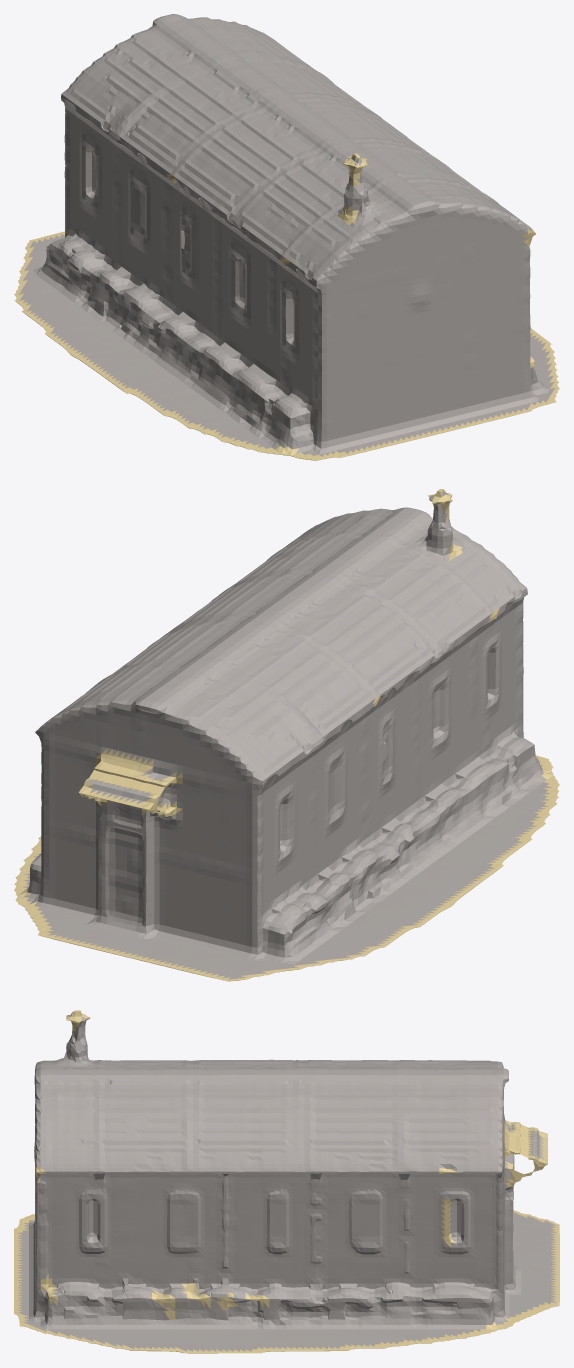
Rendered from bld_barracks.glb.
3 views of the same model, one above another, from view 1: azimuth 30°, elevation 25°; view 2: azimuth 150°, elevation 25°; view 3: azimuth 270°, elevation 25° (orthographic). The views are drawn at different scales.
Visible parts, largest first — view 1: Mesh_0.001; view 2: Mesh_0.001; view 3: Mesh_0.001.
Boxes of the visible parts, x1,y1,x2,y2 form: Mesh_0.001: (14,14,559,460); Mesh_0.001: (14,489,559,981); Mesh_0.001: (14,1010,559,1353).
Bounding box in the file's own units: 2.9 × 1.95 × 4.
